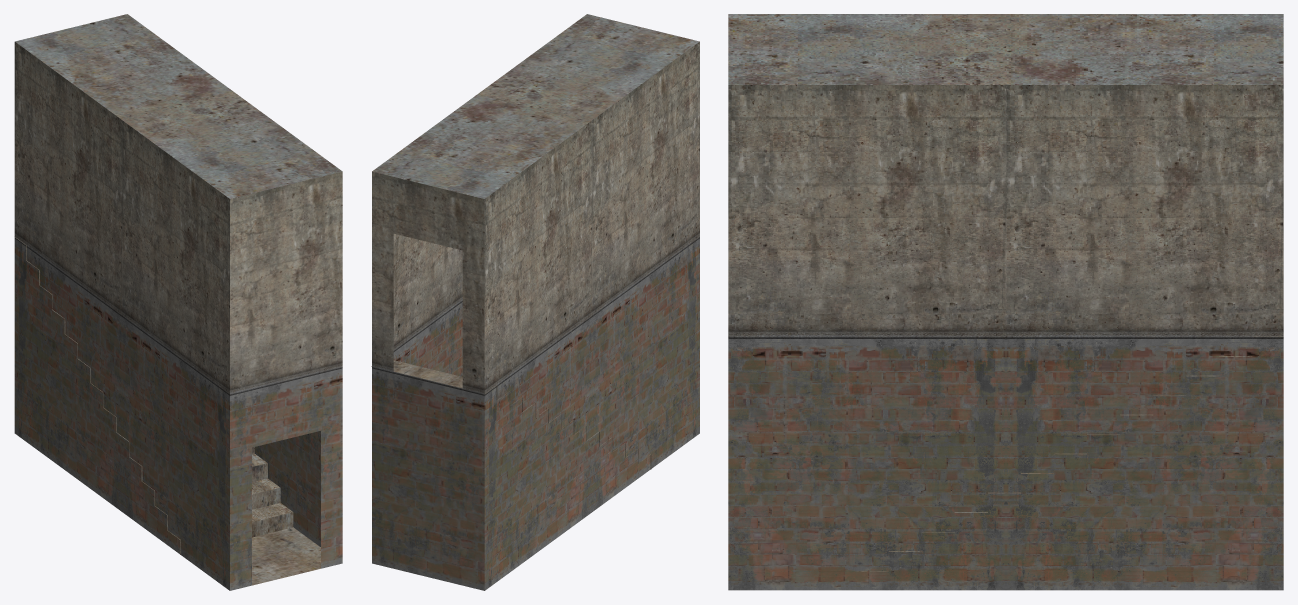
The model's file is _Corridor_part19.FBX.
3 views of the same model, side by side, from view 1: azimuth 30°, elevation 25°; view 2: azimuth 150°, elevation 25°; view 3: azimuth 270°, elevation 25° (orthographic). The views are drawn at different scales.
Parts seen in each view (by area): view 1: Corridor_Part19; view 2: Corridor_Part19; view 3: Corridor_Part19.
Boxes of the visible parts, bbox=[...] form: Corridor_Part19: bbox=[14, 14, 342, 590]; Corridor_Part19: bbox=[371, 14, 699, 590]; Corridor_Part19: bbox=[728, 14, 1283, 590].
Bounding box in the file's own units: 156 × 510 × 508.
Materials: 4 (4 with a texture image).
